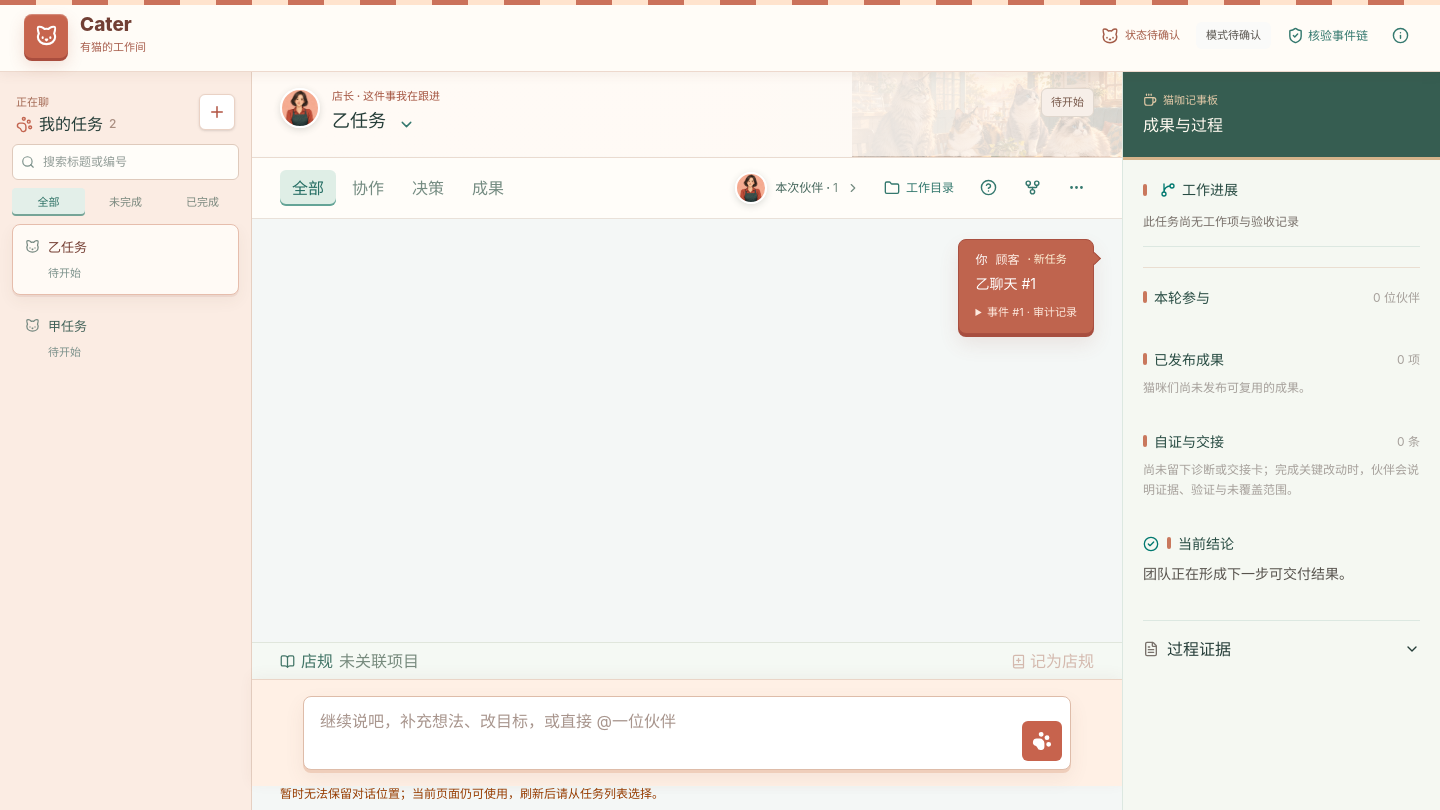
Scenario: 旧摘要不能覆盖新发送详情的标题、状态与后续草稿
The width and height of the screenshot is (1440, 810).
Type "补充要求" into the text box named "向团队发送消息" at (663, 733), box [312,705,1014,761]
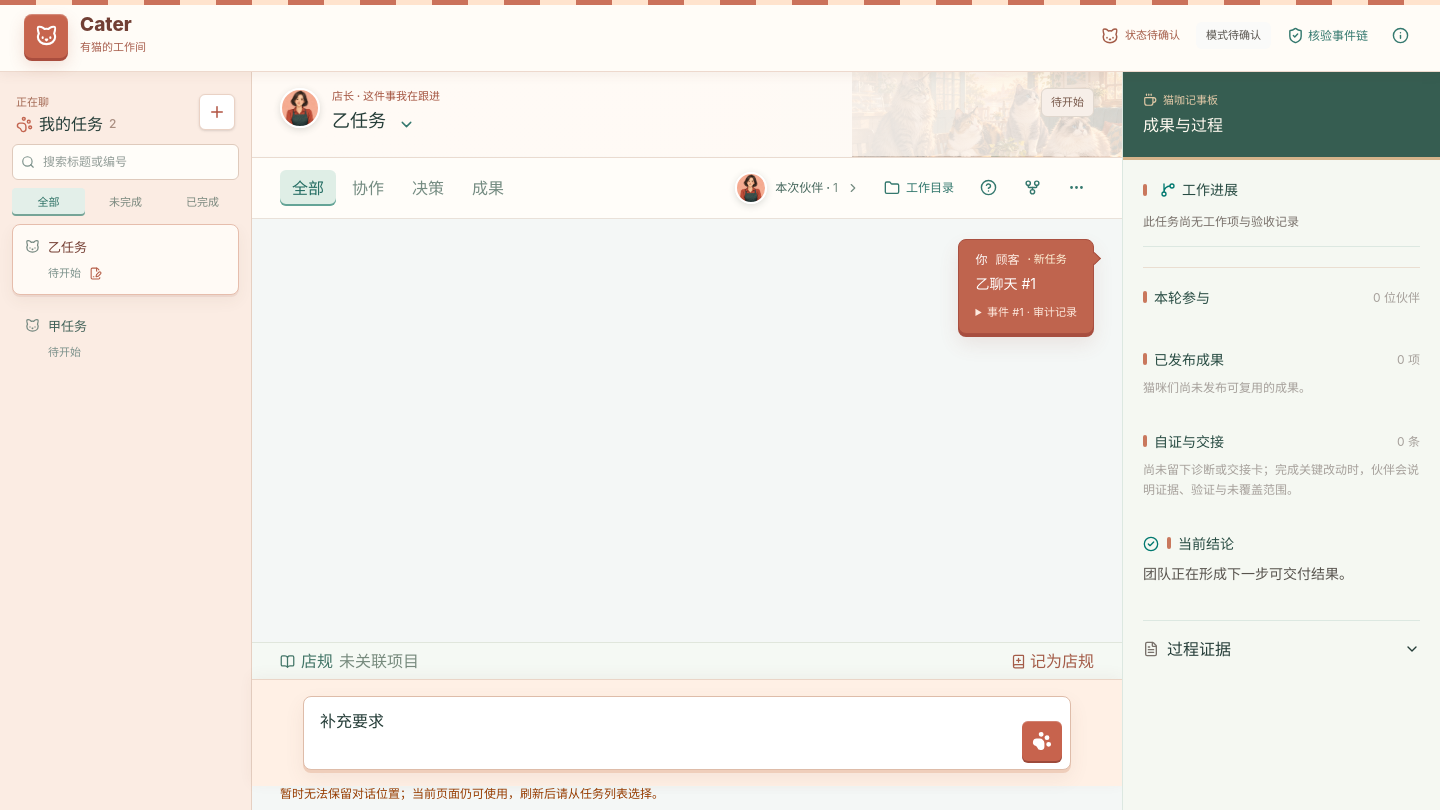
Click the button named "发送消息" at (1042, 741), box [1022,721,1062,761]
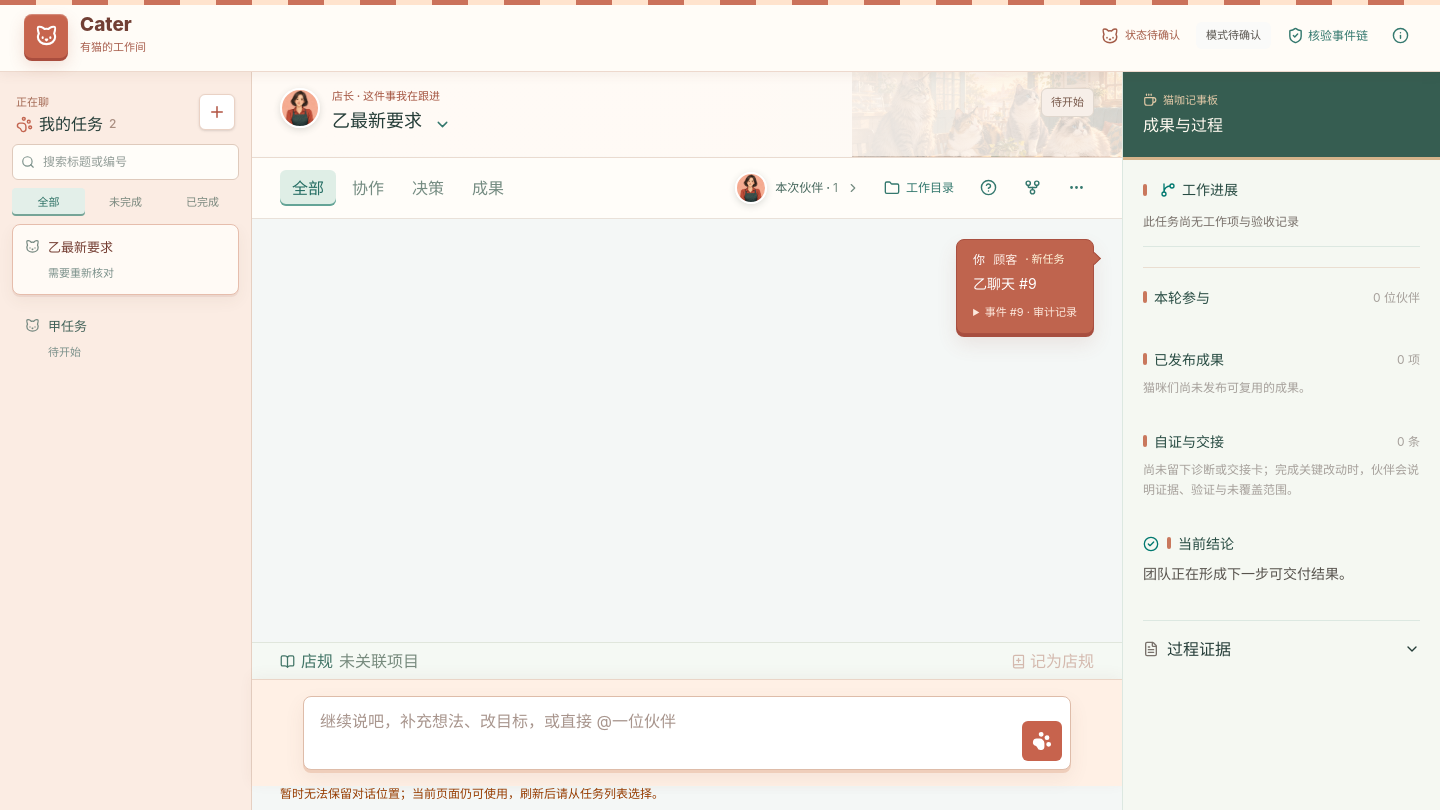
Type "下一条尚未发送的要求" into the text box named "向团队发送消息" at (663, 733), box [312,705,1014,761]
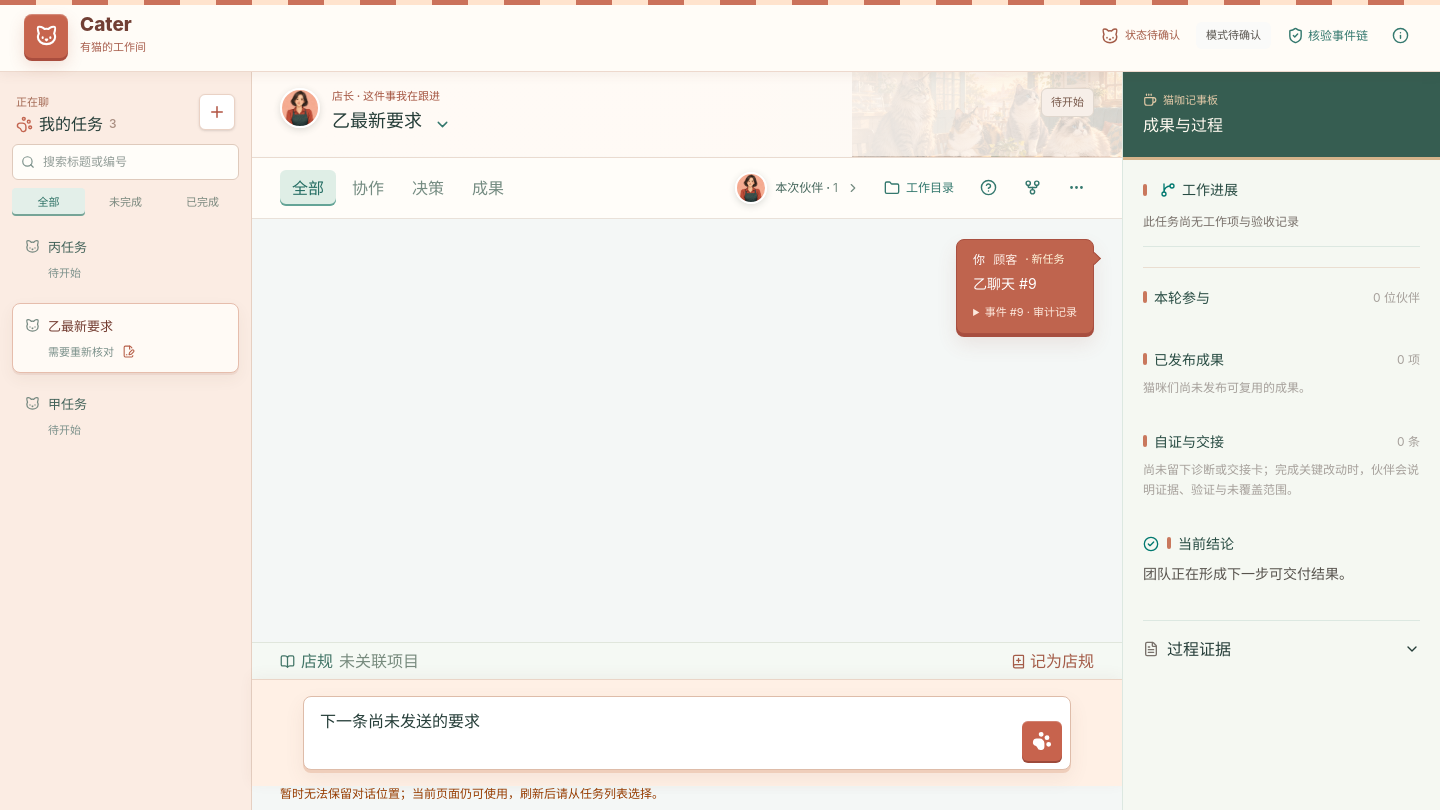
Result: the text "乙聊天 #9" is shown at [973,274,1037,292]
Result: the picture named "有未发送内容" is shown at [122,345,135,358]
Result: the button "丙任务 待开始" is shown at [12,224,239,294]
